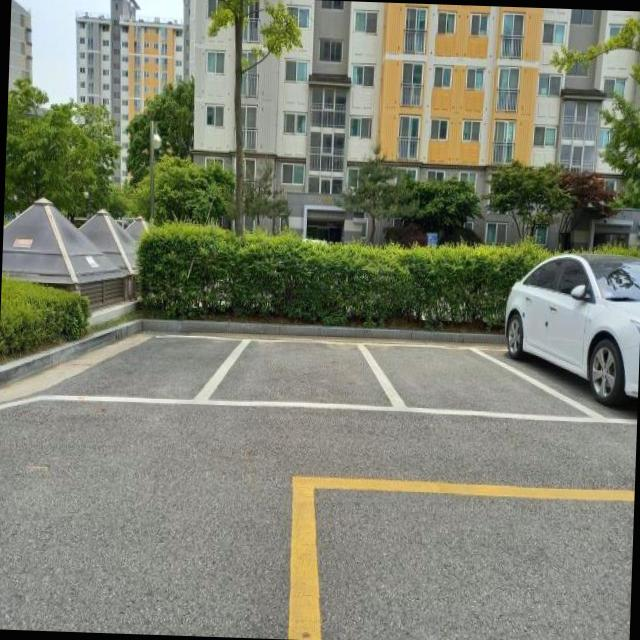car: (502, 249, 640, 412)
free: (59, 325, 237, 414), (214, 334, 387, 416), (376, 344, 519, 416)
